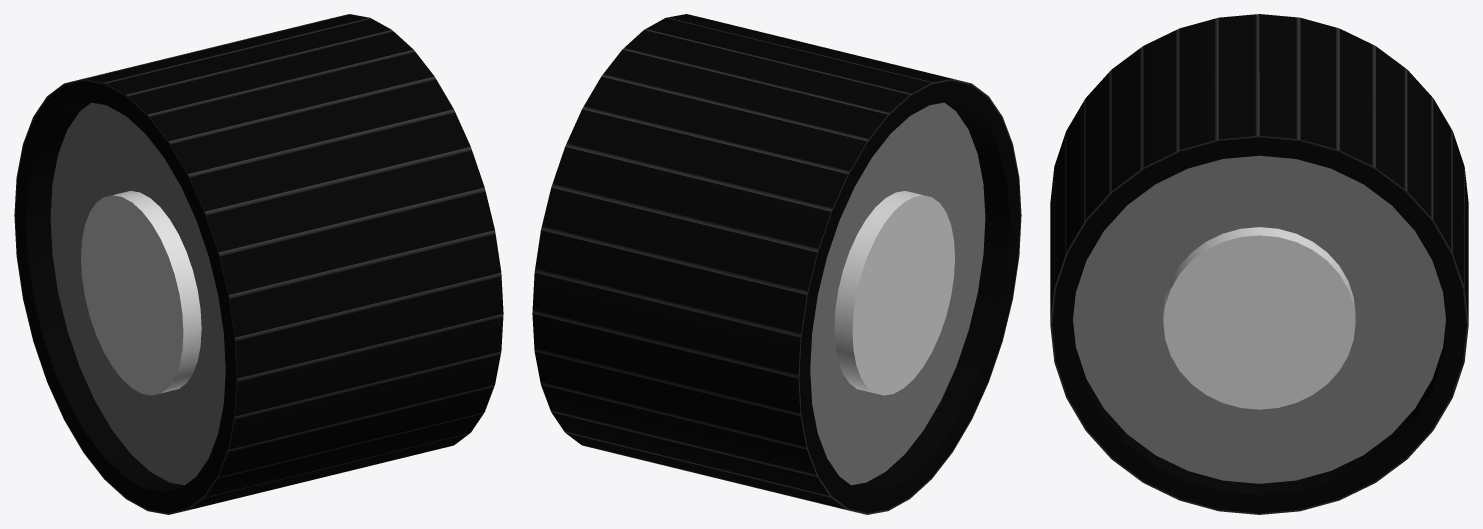
The model's file is RodaTrasIgor.fbx.
The picture shows the model from 3 angles, left to right: view 1: azimuth 30°, elevation 25°; view 2: azimuth 150°, elevation 25°; view 3: azimuth 270°, elevation 25°; orthographic projection. The views are drawn at different scales.
Parts seen in each view (by area): view 1: Roda Traseira 1; view 2: Roda Traseira 1; view 3: Roda Traseira 1.
Part boxes in pixels (x1,y1,x2,y2): Roda Traseira 1: (14, 14, 503, 514); Roda Traseira 1: (532, 14, 1021, 514); Roda Traseira 1: (1050, 14, 1468, 514).
Bounding box in the file's own units: 32.77 × 47.59 × 47.59.
1 material, 1 textured.
